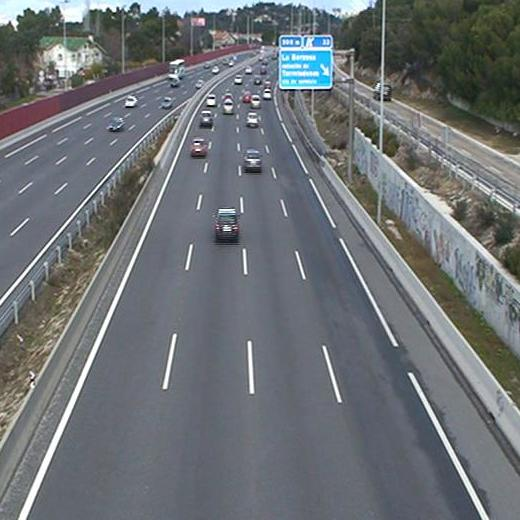car: (215, 207, 238, 238), (243, 150, 263, 169), (199, 108, 216, 125), (245, 111, 261, 127), (221, 99, 236, 116), (189, 140, 203, 156), (205, 93, 219, 109), (251, 93, 263, 110), (262, 87, 275, 102)
